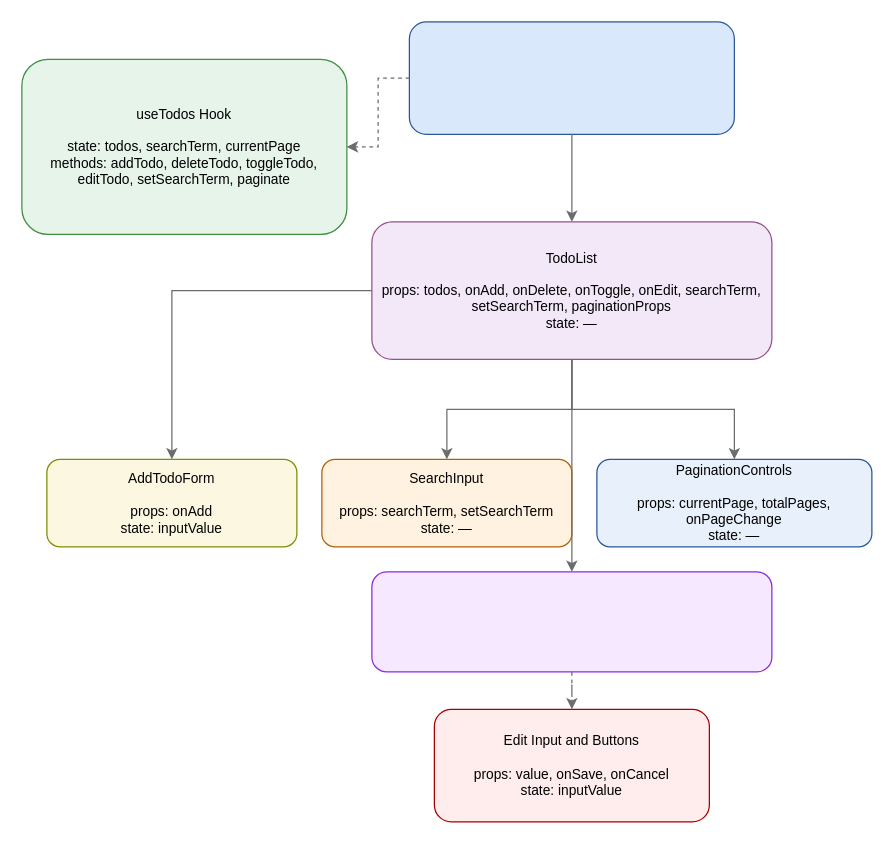
This 894x844 diagram has some shape labels left out. Here are the shapes that lost their labels. From the top down, the box of each, then its label:
(408, 21, 734, 134): App state: todos (from useTodos Hook) props: —
(371, 571, 772, 672): TodoItem props: todo, onDelete, onToggle, onEdit state: isEditing, editedText
